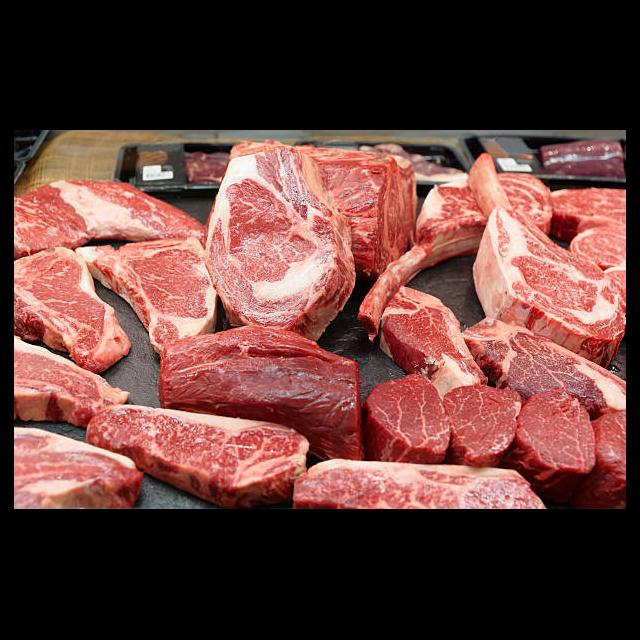beef: (467, 151, 626, 368), (206, 140, 356, 340), (160, 326, 364, 460), (86, 406, 308, 508), (359, 180, 488, 340), (464, 318, 626, 420), (76, 238, 217, 354), (298, 146, 418, 278), (14, 180, 205, 258), (14, 248, 130, 374), (294, 460, 546, 510), (382, 286, 489, 396), (504, 388, 597, 502), (14, 428, 142, 510), (14, 336, 128, 428), (364, 374, 451, 464), (445, 386, 523, 468), (573, 413, 626, 510), (551, 188, 626, 242), (502, 174, 553, 234), (572, 226, 626, 270)
